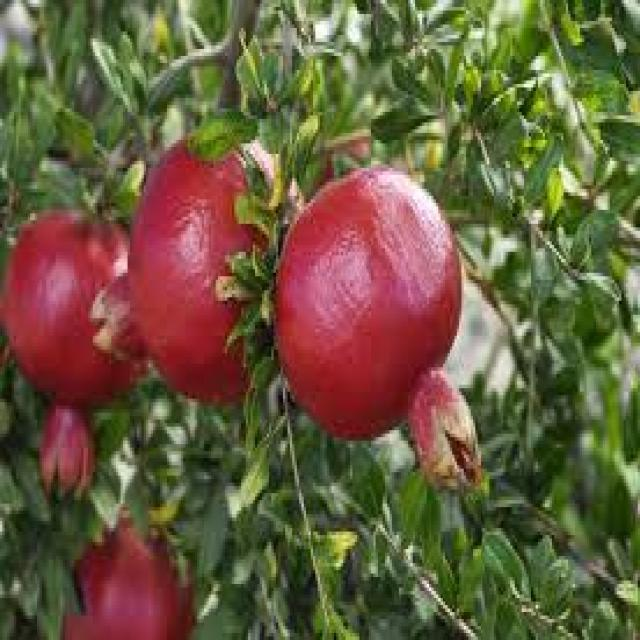Ripe: (265, 158, 488, 486), (88, 122, 263, 408), (0, 195, 132, 495)
